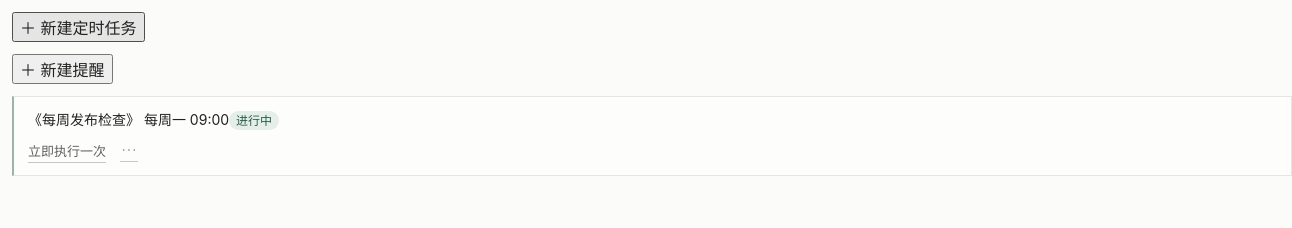
Scenario: A3 Fix 2：「立即执行一次」的失败逐类指名（不再塌成一句话） › 404/不存在：如实说这条安排已经不存在（可能已在别处删除）
The width and height of the screenshot is (1292, 228).
Click the button "立即执行一次" at (67, 151), box [28,139,106,163]
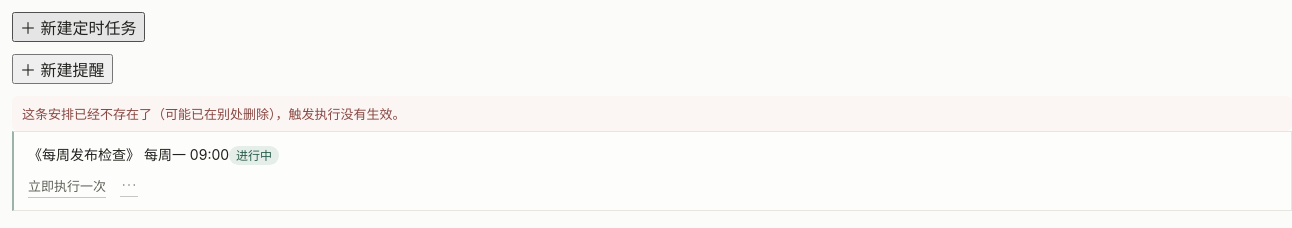
Result: the message "这条安排已经不存在了（可能已在别处删除），触发执行没有生效。" is shown at [12,96,1291,131]
